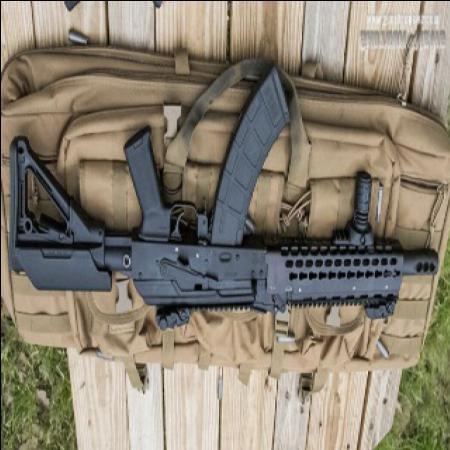2: (3, 62, 437, 332)
Pistol: (2, 67, 441, 332)
